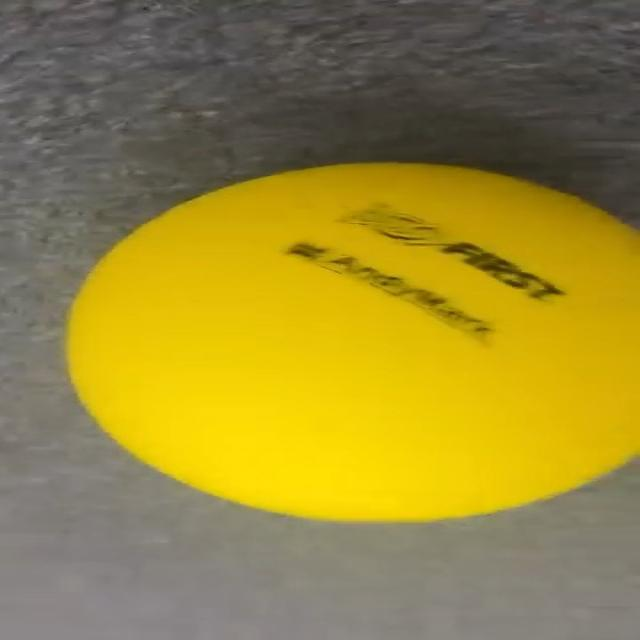Fuels: (69, 164, 638, 521)
